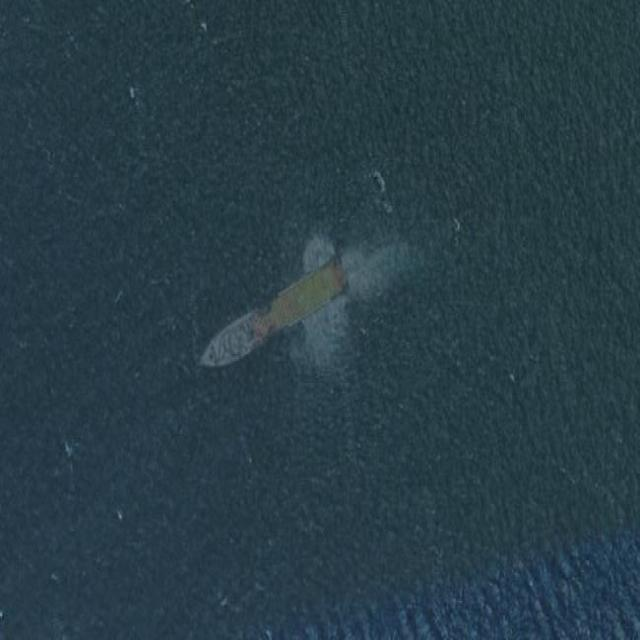ship2: (199, 241, 348, 371)
